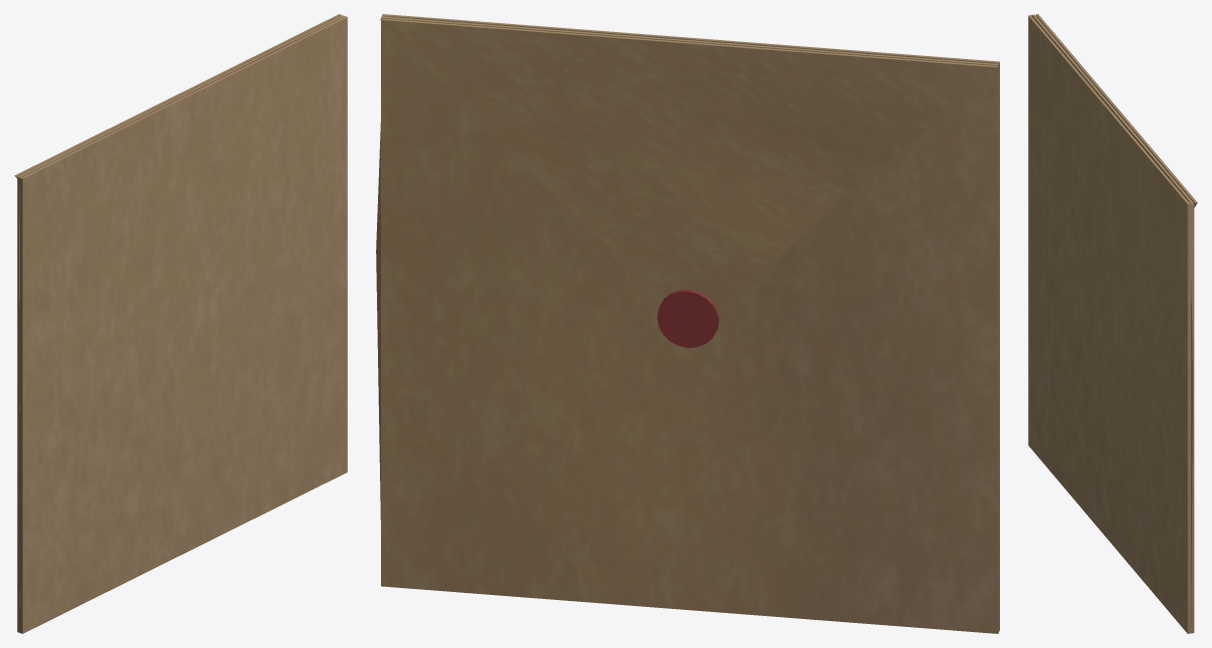
Rendered from Envelope_clue.fbx.
The picture shows the model from 3 angles, left to right: view 1: azimuth 30°, elevation 25°; view 2: azimuth 150°, elevation 25°; view 3: azimuth 270°, elevation 25°; orthographic projection. The views are drawn at different scales.
Visible parts, largest first — view 1: Envelope_Bottom, Envelope_Top, Envelope_Fold1; view 2: Envelope_Top, Envelope_Fold1, Envelope_Bottom, Seal; view 3: Envelope_Bottom, Envelope_Top, Envelope_Fold1.
Part boxes in pixels (x1=…): Envelope_Bottom: x1=19, y1=16, x2=347, y2=633; Envelope_Top: x1=17, y1=15, x2=344, y2=632; Envelope_Fold1: x1=14, y1=14, x2=340, y2=178; Envelope_Top: x1=376, y1=16, x2=998, y2=633; Envelope_Fold1: x1=380, y1=18, x2=997, y2=313; Envelope_Bottom: x1=382, y1=14, x2=999, y2=631; Seal: x1=657, y1=289, x2=719, y2=347; Envelope_Bottom: x1=1028, y1=15, x2=1191, y2=633; Envelope_Top: x1=1031, y1=14, x2=1194, y2=633; Envelope_Fold1: x1=1036, y1=14, x2=1197, y2=207.
Size of the model in its own units: 4.25 by 4.45 by 1.59.
Materials: 2 (1 with a texture image).
